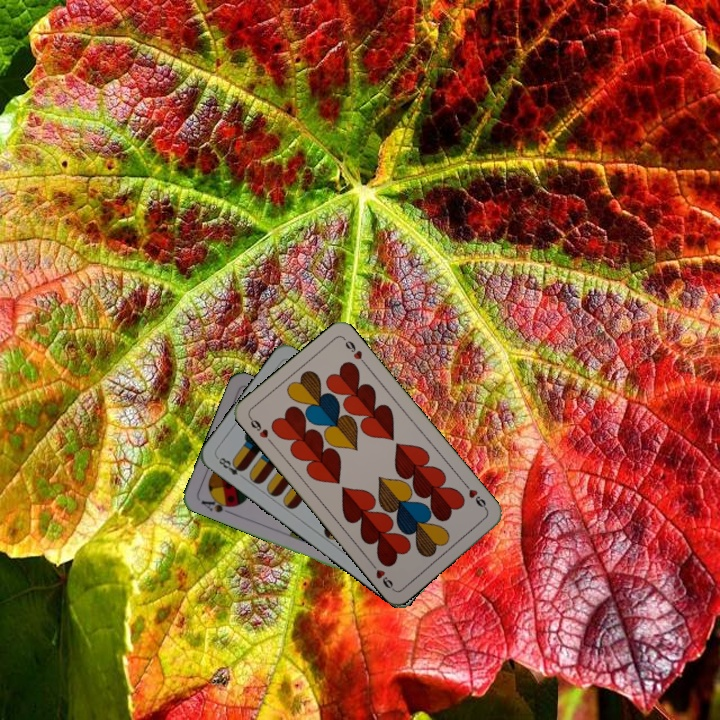E8: (213, 453, 247, 478)
H9: (245, 413, 275, 447), (460, 479, 490, 513)
SA: (197, 493, 237, 517)
